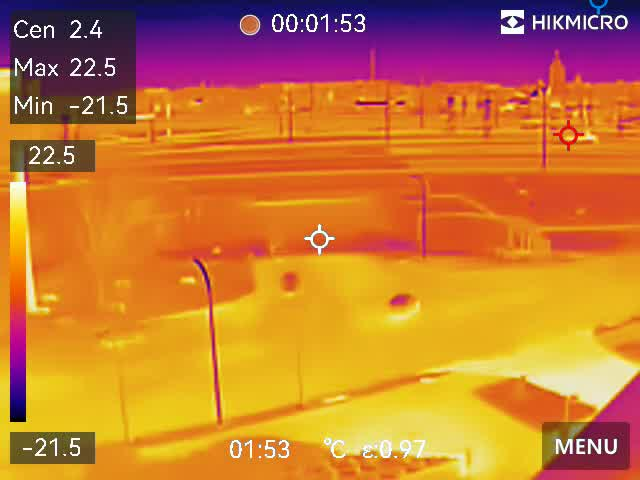smallCar: (380, 288, 421, 319), (277, 267, 300, 301)
vehicle: (91, 323, 146, 349)
